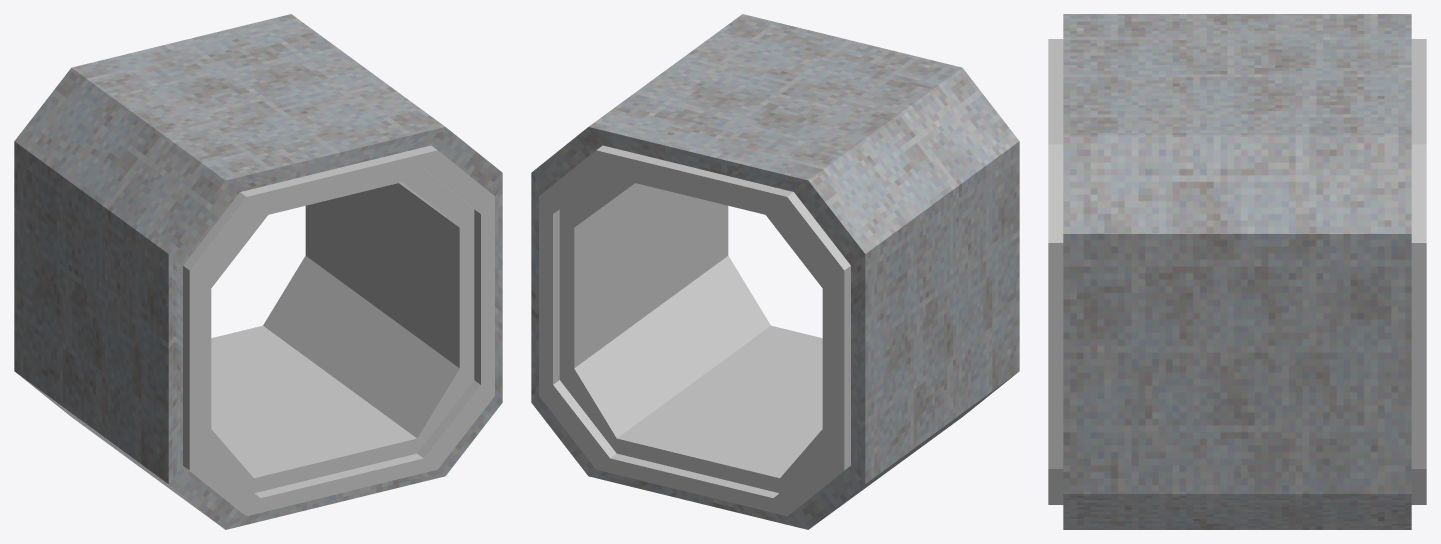
Rendered from shipstraighthallway.fbx.
The picture shows the model from 3 angles, left to right: view 1: azimuth 30°, elevation 25°; view 2: azimuth 150°, elevation 25°; view 3: azimuth 270°, elevation 25°; orthographic projection. The views are drawn at different scales.
Visible parts, largest first — view 1: geo_shiphallway; view 2: geo_shiphallway; view 3: geo_shiphallway.
Part boxes in pixels (x1,y1,x2,y2): geo_shiphallway: (14, 14, 502, 529); geo_shiphallway: (531, 14, 1019, 529); geo_shiphallway: (1048, 14, 1426, 529).
Bounding box in the file's own units: 500 × 500 × 434.
